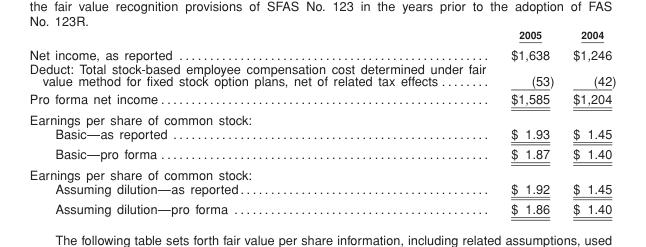table: (28, 28, 615, 215)
table column: (28, 28, 497, 215), (497, 28, 562, 215), (562, 28, 615, 215)
table column header: (28, 28, 615, 43)
table projected row header: (28, 108, 615, 126), (28, 163, 615, 181)
table row: (28, 61, 615, 89), (28, 143, 615, 163), (28, 89, 615, 108), (28, 43, 615, 61), (28, 108, 615, 126), (28, 163, 615, 181), (28, 126, 615, 143), (28, 181, 615, 198), (28, 198, 615, 215), (28, 28, 615, 43)
